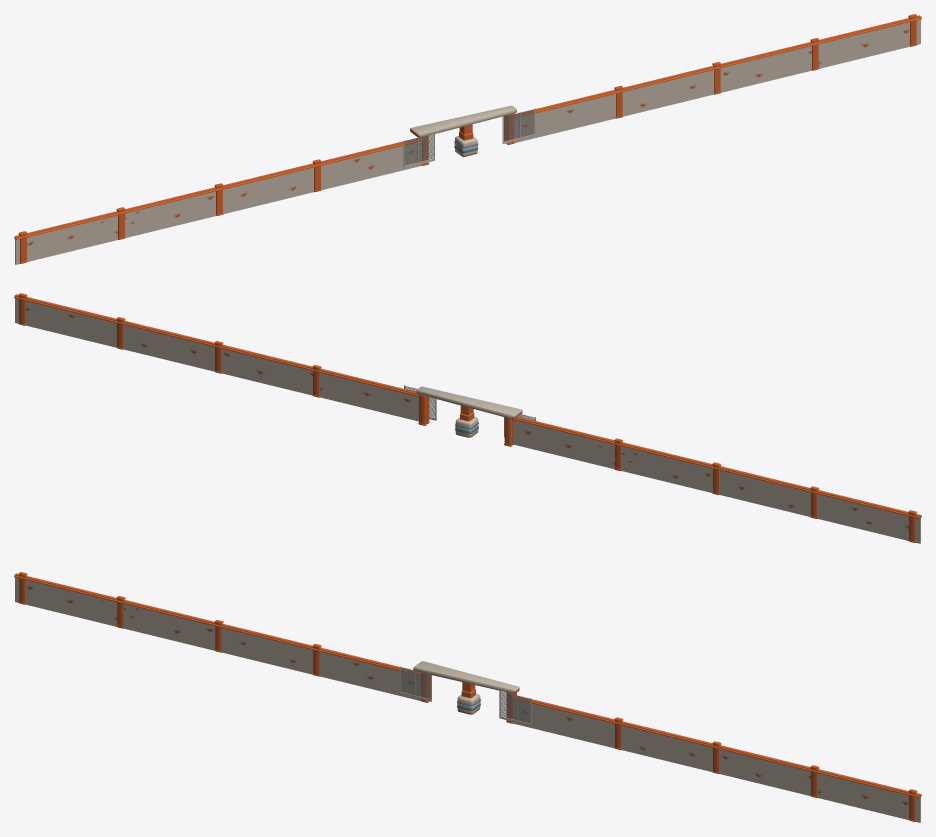
Rendered from Portaria (1).fbx.
3 renders of one model, top to bottom at view 1: azimuth 30°, elevation 25°; view 2: azimuth 150°, elevation 25°; view 3: azimuth 330°, elevation 25°, orthographic.
Parts seen in each view (by area): view 1: Portaria; view 2: Portaria; view 3: Portaria.
Boxes of the visible parts, box(x1,y1,x2,y2) form: Portaria: box(14, 14, 921, 264); Portaria: box(14, 293, 921, 543); Portaria: box(14, 572, 921, 822).
Bounding box in the file's own units: 3693 × 136 × 69.93.
